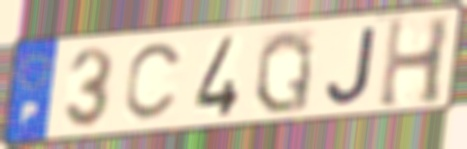3: (64, 44, 116, 132)
4: (193, 34, 241, 119)
C: (121, 40, 187, 125)
H: (376, 13, 455, 111)
J: (324, 23, 380, 107)
Q: (252, 27, 316, 117)
